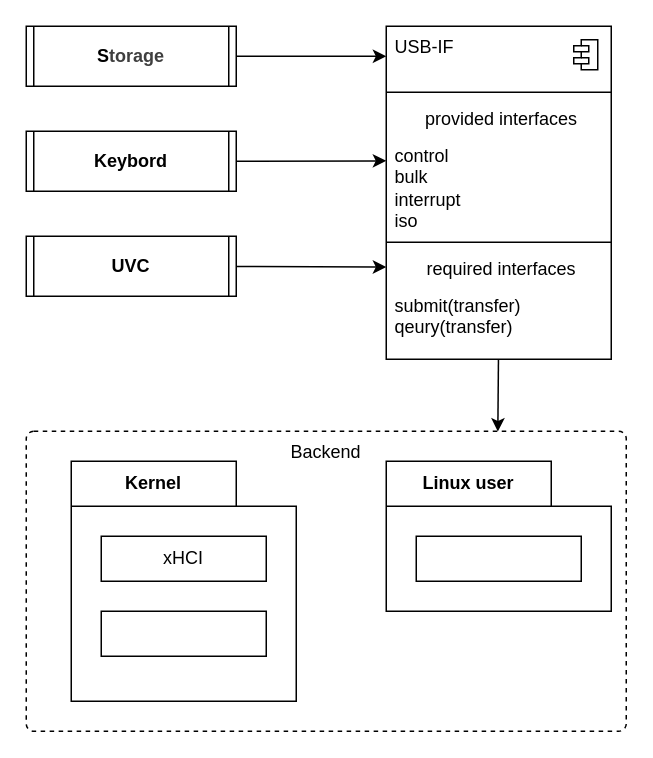
Image size: 653x758. Some labels were removed from this diagram. The centre of each missing label's shape, as x and y in pixels:
"DWC3" goes at [183,633].
"libusb" goes at [498,558].
